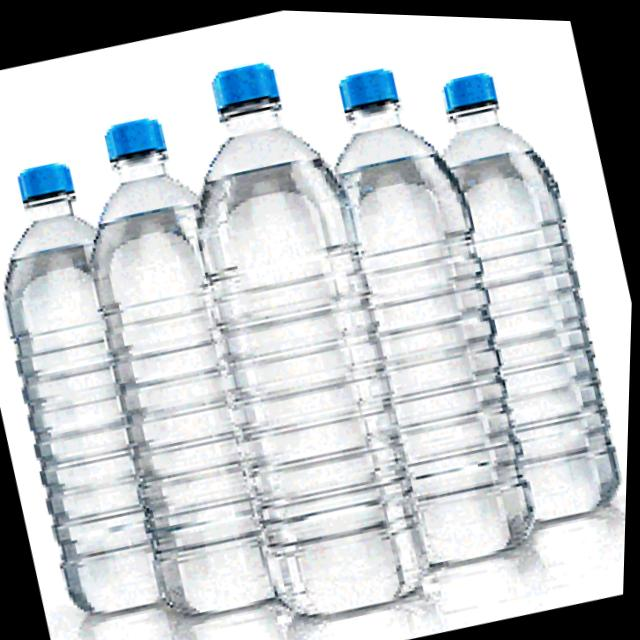plastic_water_bottles: (155, 45, 452, 640), (306, 46, 550, 556), (53, 92, 288, 610), (420, 41, 639, 524), (0, 157, 178, 621)
